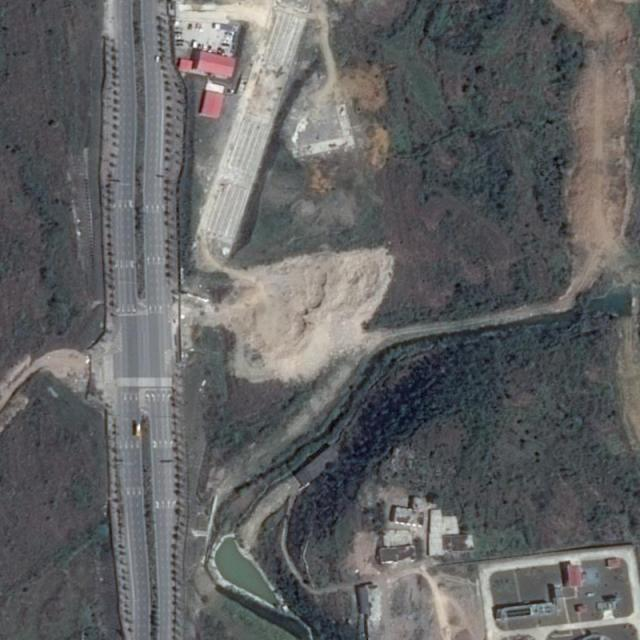vehicle: (134, 422, 142, 438)
